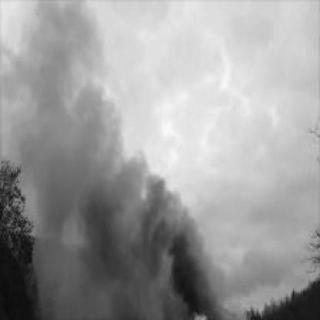Fire: (186, 310, 210, 318)
